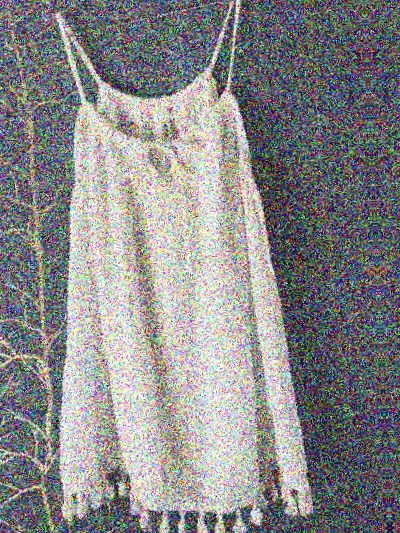Dress: (9, 0, 335, 533)
